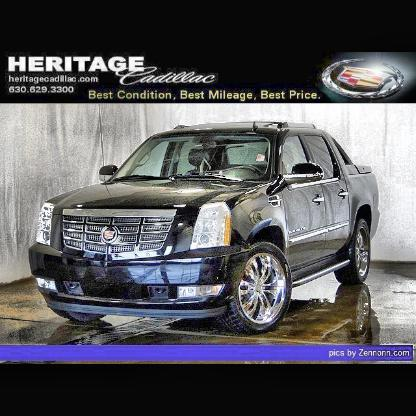Cadillac Escalade EXT Crew Cab 2007: (22, 112, 397, 349)
